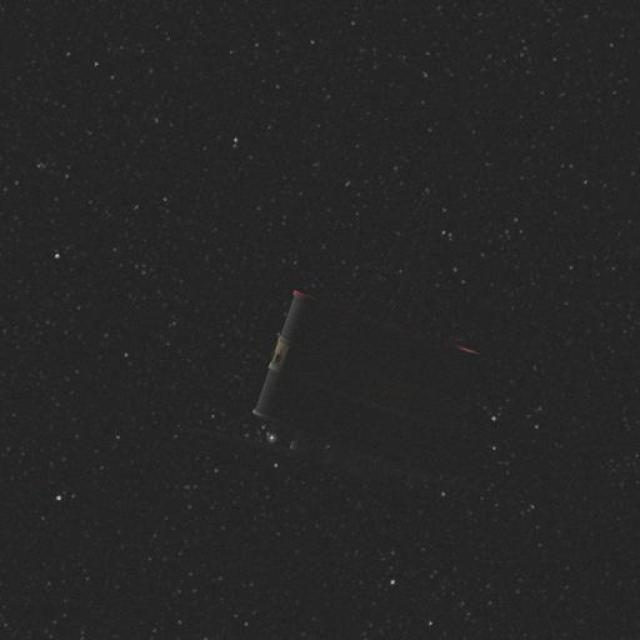double_start: (226, 258, 518, 505)
